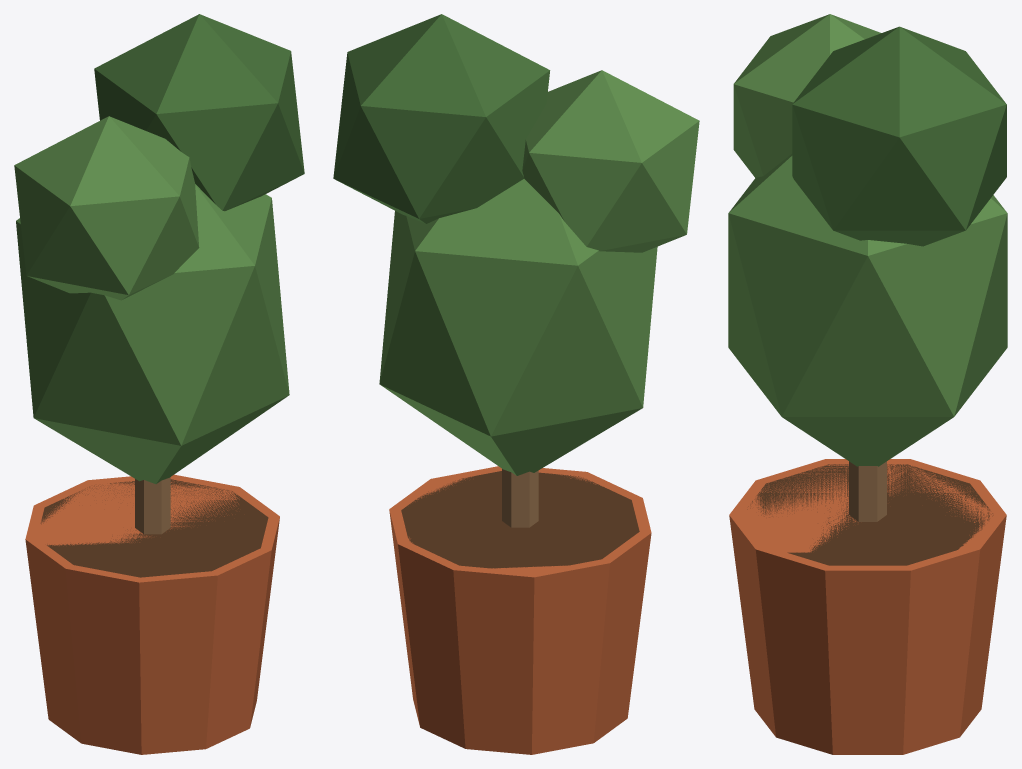
The model's file is plant.glb.
The picture shows the model from 3 angles, left to right: view 1: azimuth 30°, elevation 25°; view 2: azimuth 150°, elevation 25°; view 3: azimuth 270°, elevation 25°; orthographic projection. The views are drawn at different scales.
Parts seen in each view (by area): view 1: plant_mesh; view 2: plant_mesh; view 3: plant_mesh.
Boxes of the visible parts, bbox=[...] form: plant_mesh: bbox=[14, 14, 304, 754]; plant_mesh: bbox=[333, 14, 699, 754]; plant_mesh: bbox=[728, 14, 1007, 754].
Size of the model in its own units: 0.5799 by 1.25 by 0.4423.
